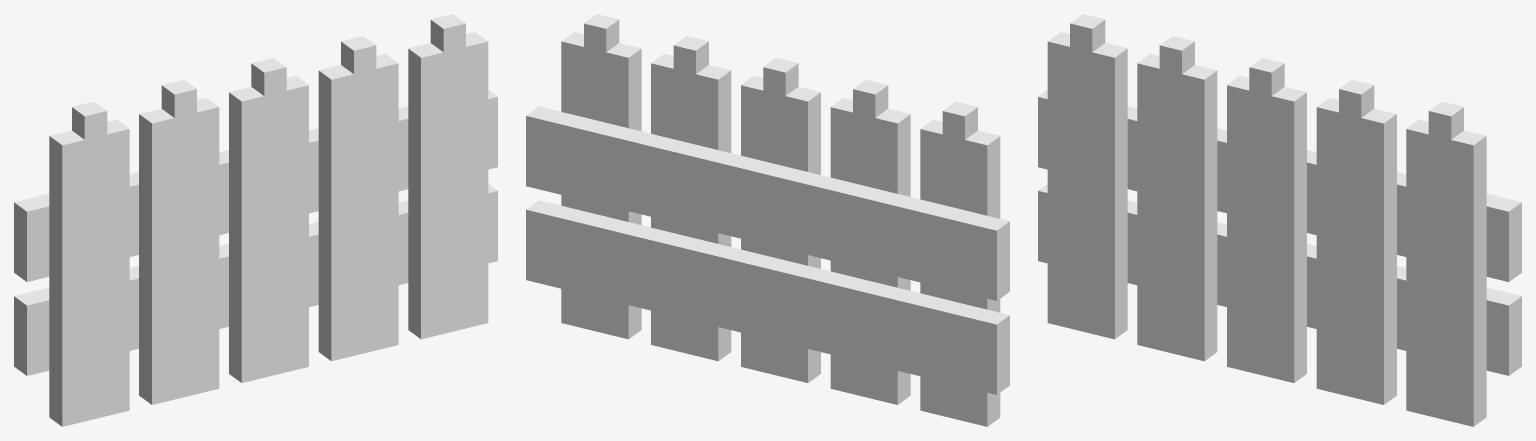
File: fence.obj
3 views of the same model, side by side, from view 1: azimuth 30°, elevation 25°; view 2: azimuth 150°, elevation 25°; view 3: azimuth 330°, elevation 25° (orthographic).
Size of the model in its own units: 2.1 by 1.3 by 0.2.
1 material, 1 textured.
